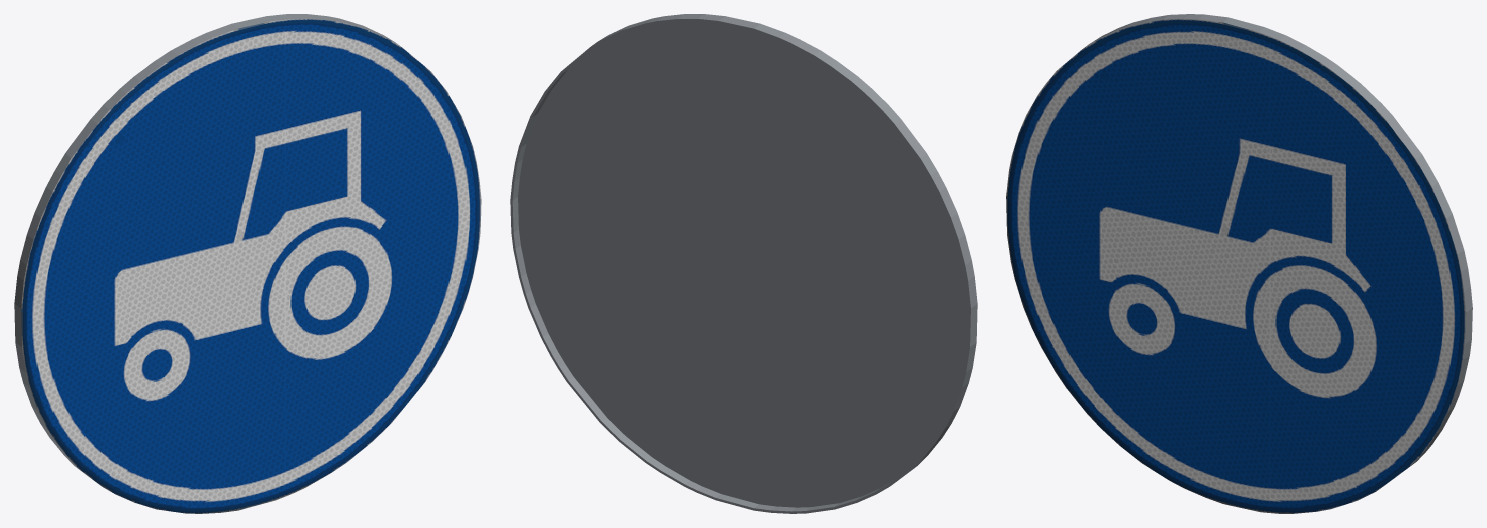
3 renders of one model, left to right at view 1: azimuth 30°, elevation 25°; view 2: azimuth 150°, elevation 25°; view 3: azimuth 330°, elevation 25°, orthographic.
Parts seen in each view (by area): view 1: cat_fd0dd37f68b92fcc; view 2: cat_fd0dd37f68b92fcc; view 3: cat_fd0dd37f68b92fcc.
Boxes of the visible parts, box(x1,y1,x2,y2) form: cat_fd0dd37f68b92fcc: box(14, 14, 481, 513); cat_fd0dd37f68b92fcc: box(510, 14, 977, 513); cat_fd0dd37f68b92fcc: box(1006, 14, 1472, 513).
Bounding box in the file's own units: 0.6 × 0.015 × 0.6.
Materials: 2 (1 with a texture image).
